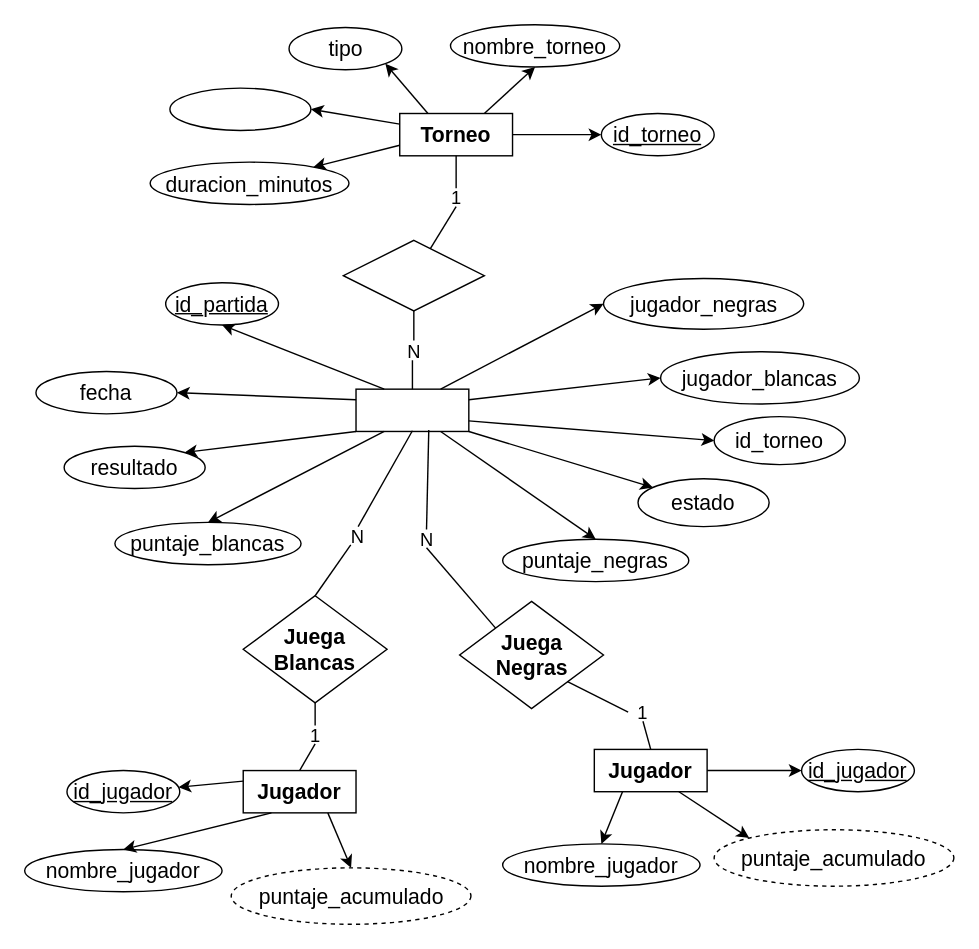
This 979x949 diagram has some shape labels left out. Each missing label, with the centre of its shape:
"Contiene" goes at (413,275).
"fecha_inicio" goes at (239,108).
"Partida" goes at (412,409).
